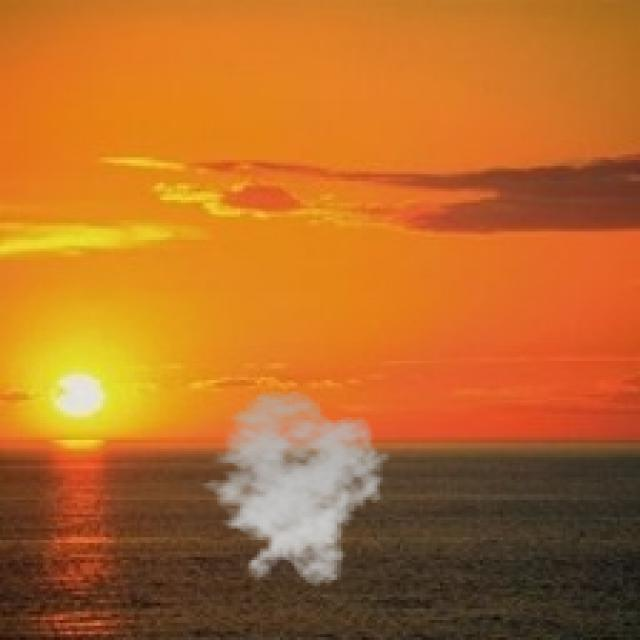Smoke: (192, 388, 392, 588)
